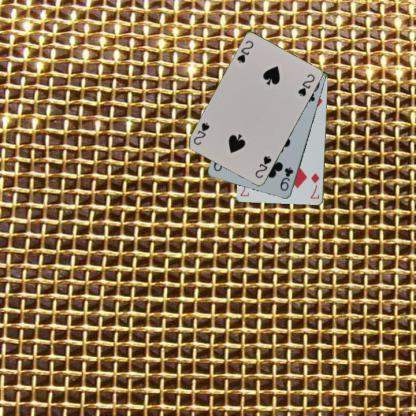2s: (252, 153, 272, 180), (234, 38, 254, 65)
7d: (308, 171, 321, 200)
9c: (277, 165, 295, 192)
